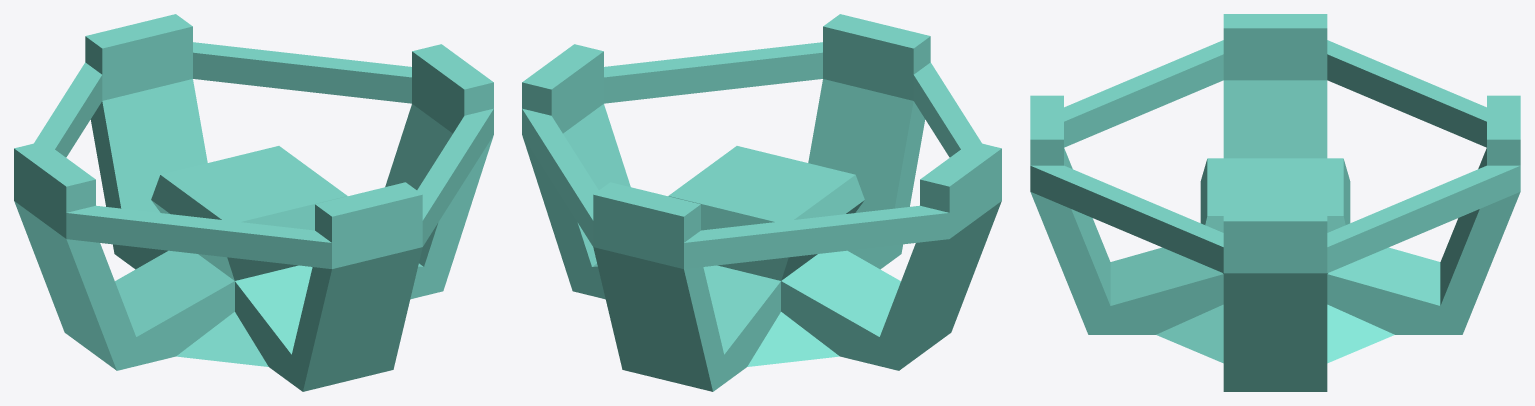
Rendered from fireBasket.glb.
3 renders of one model, left to right at view 1: azimuth 30°, elevation 25°; view 2: azimuth 150°, elevation 25°; view 3: azimuth 270°, elevation 25°, orthographic.
Parts seen in each view (by area): view 1: fireBasket; view 2: fireBasket; view 3: fireBasket.
Boxes of the visible parts, x1,y1,x2,y2 form: fireBasket: [14, 14, 493, 391]; fireBasket: [522, 14, 1001, 391]; fireBasket: [1030, 14, 1520, 391].
Size of the model in its own units: 0.2731 by 0.12 by 0.2731.
